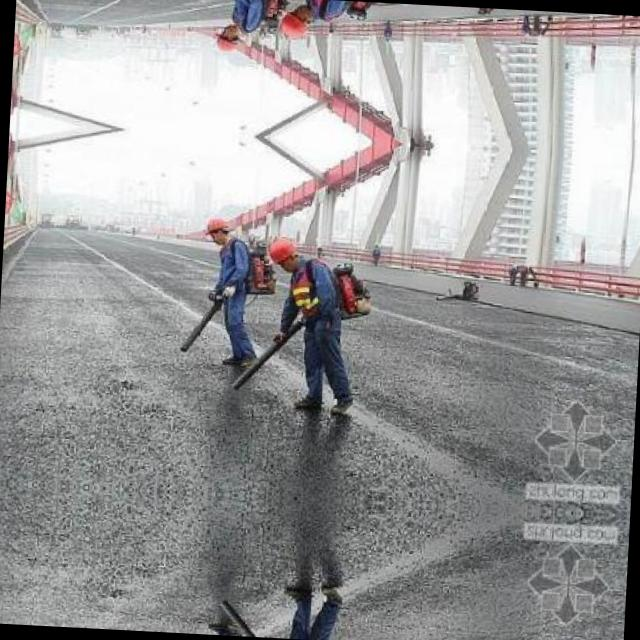helmet: (265, 235, 299, 268), (277, 8, 311, 40), (214, 27, 243, 56), (204, 214, 233, 242)
